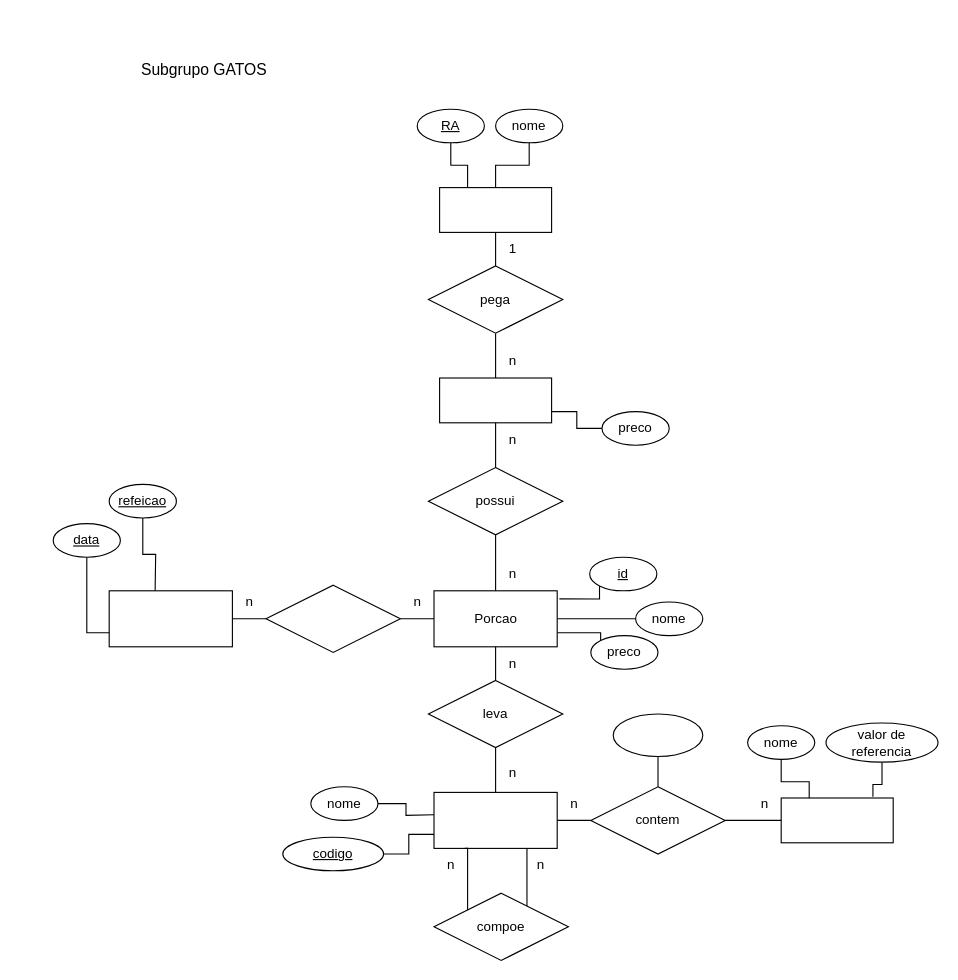
The diagram is 958 pixels wide and 980 high, and some of its shapes have lost their labels. The shapes that lost their labels are listed below. From the top down, each one's box as (x1, y1, x2, y2) in pixels, then its label:
(438, 186, 552, 232): Aluno
(438, 377, 552, 423): Pedido
(108, 590, 232, 647): Cardapio
(265, 584, 400, 652): inclui
(612, 713, 703, 757): quantidade presente
(433, 791, 557, 848): Ingrediente
(780, 797, 893, 843): Nutriente
